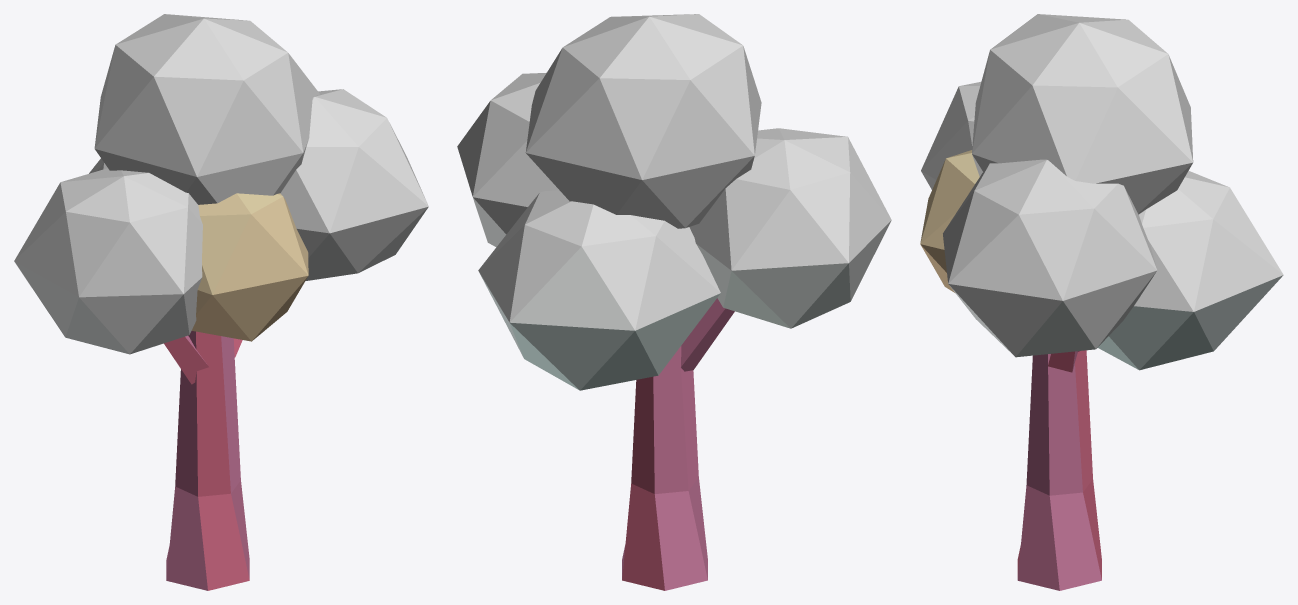
The model's file is broadleaf.glb.
3 renders of one model, left to right at view 1: azimuth 30°, elevation 25°; view 2: azimuth 150°, elevation 25°; view 3: azimuth 270°, elevation 25°, orthographic. The views are drawn at different scales.
Visible parts, largest first — view 1: broadleaf; view 2: broadleaf; view 3: broadleaf.
Boxes of the visible parts, x1,y1,x2,y2 form: broadleaf: (14, 14, 428, 590); broadleaf: (457, 14, 891, 590); broadleaf: (920, 14, 1283, 590).
Bounding box in the file's own units: 1.39 × 1.87 × 1.12.
